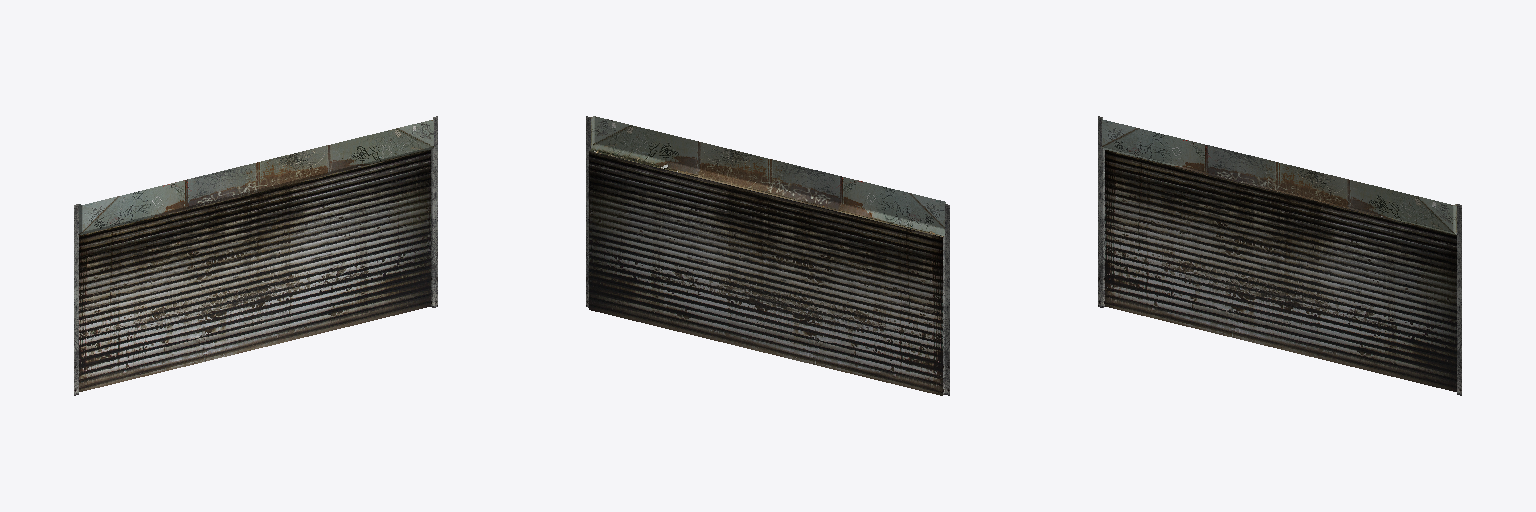
3 renders of one model, left to right at view 1: azimuth 30°, elevation 25°; view 2: azimuth 150°, elevation 25°; view 3: azimuth 330°, elevation 25°, orthographic.
Visible parts, largest first — view 1: Gotham_Doors_Shutter_StatiC; view 2: Gotham_Doors_Shutter_StatiC; view 3: Gotham_Doors_Shutter_StatiC.
Boxes of the visible parts, x1,y1,x2,y2 form: Gotham_Doors_Shutter_StatiC: [74, 116, 437, 395]; Gotham_Doors_Shutter_StatiC: [586, 116, 949, 395]; Gotham_Doors_Shutter_StatiC: [1098, 116, 1461, 395].
Size of the model in its own units: 768 by 384 by 16.
1 materials, 1 textured.